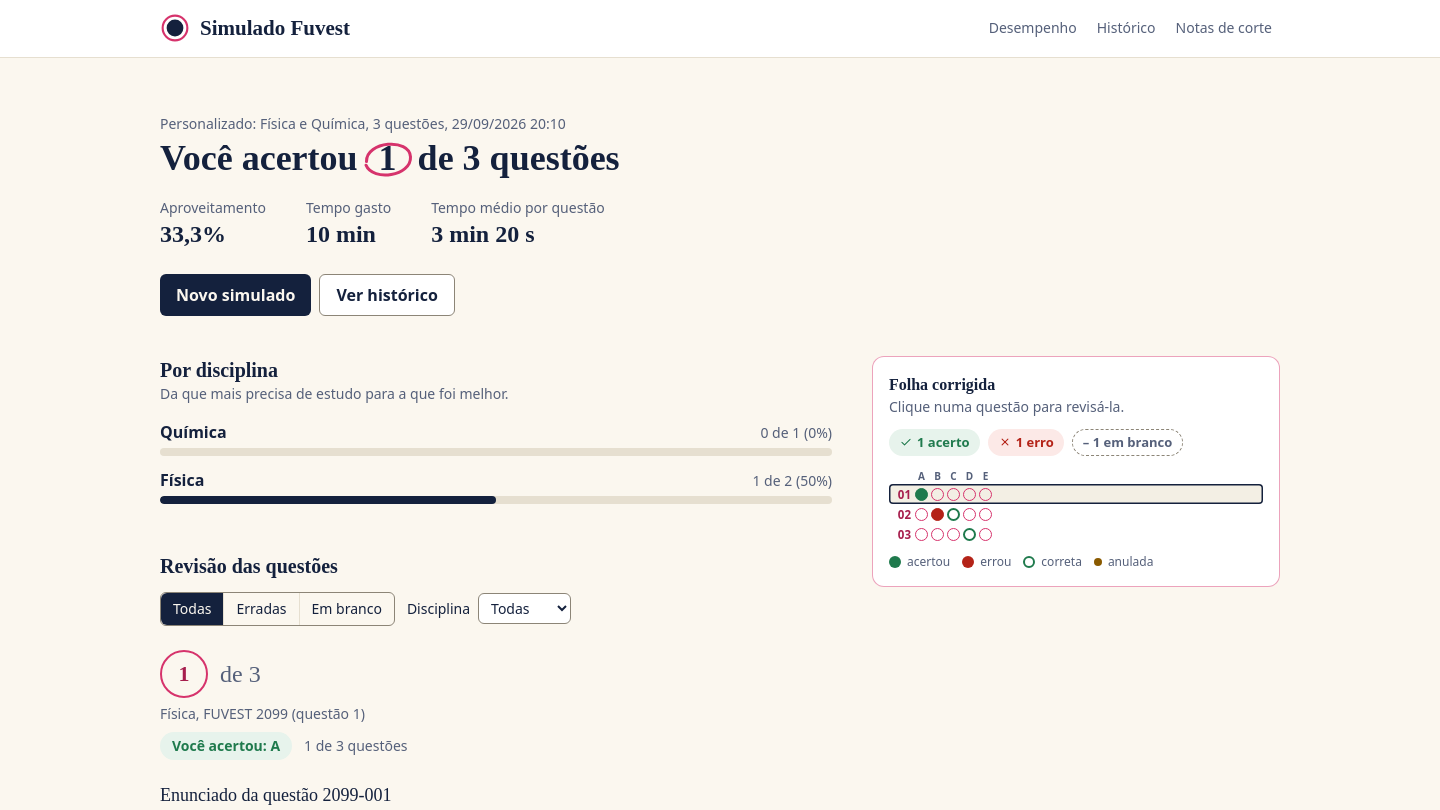
Test: Resultado (RF-017 a RF-019) › questão fora do filtro, escolhida na folha, volta o filtro para "Todas"
Expected: the text "Enunciado da questão 2099-001" is shown, [160,785,392,805]
Click the radio button labelled "Erradas" at (262, 609), box [224,593,300,625]
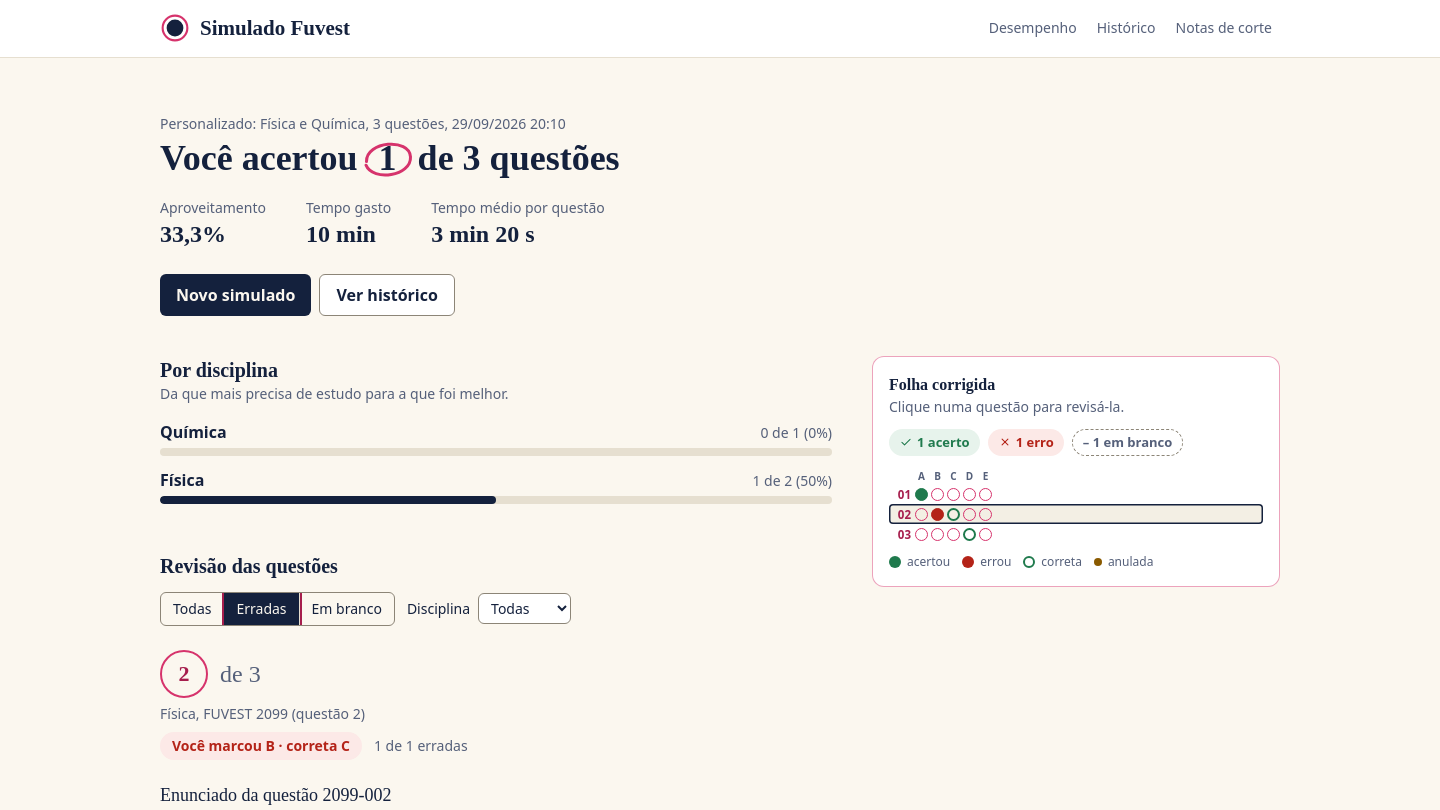
Expected: the text "Enunciado da questão 2099-002" is shown, [160,785,392,805]
Click the button named "Questão 1:" at (904, 494), box [889,484,1263,504]
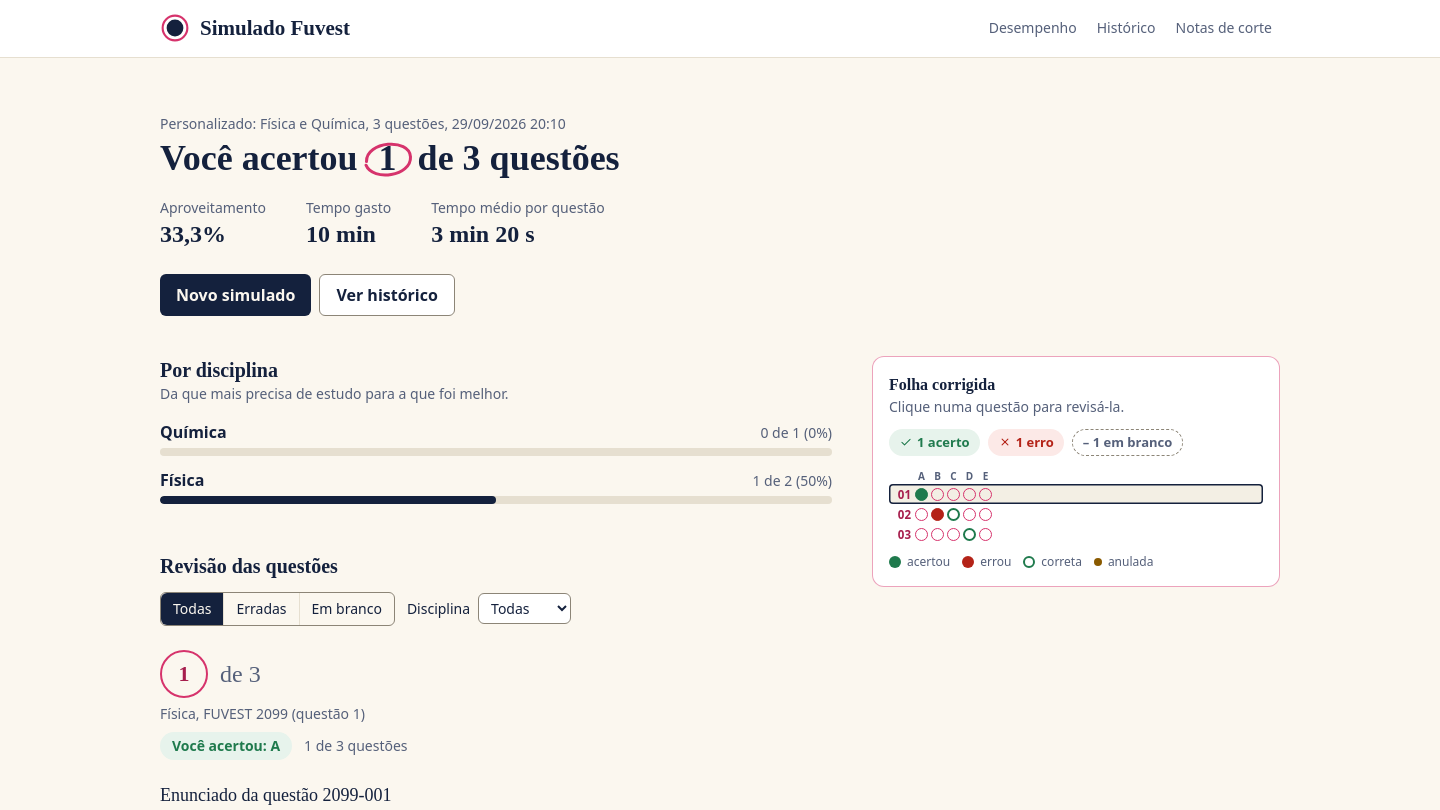
Expected: the radio button labelled "Todas" is checked, [161,593,224,625]
Expected: the text "Enunciado da questão 2099-001" is shown, [160,785,392,805]
